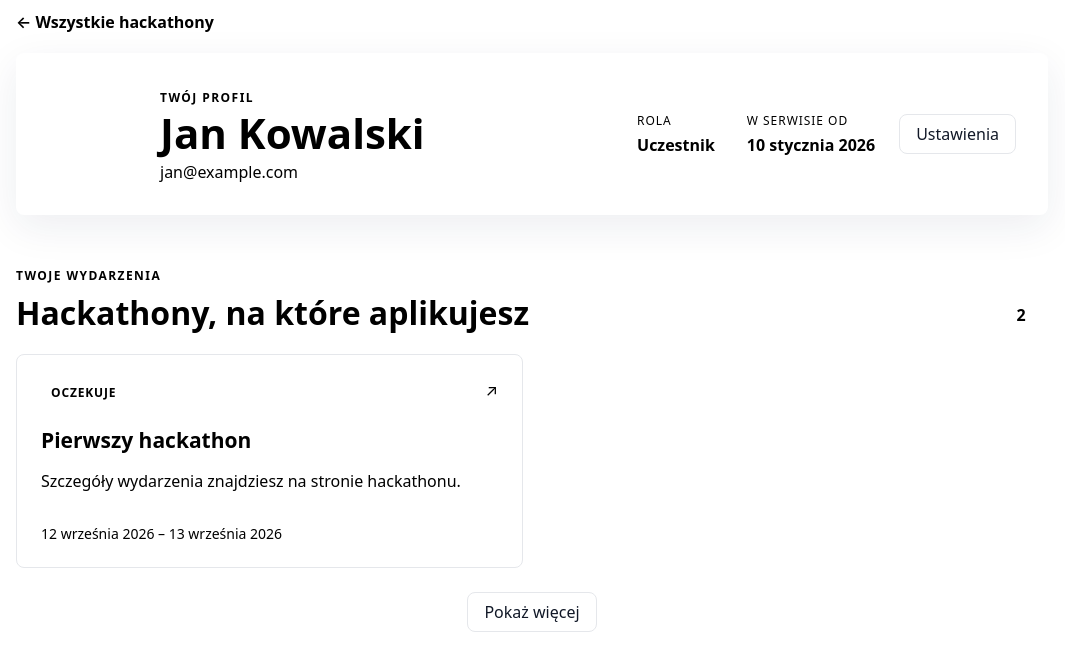
ProfilePage › loads the next page without replacing visible hackathons
The image size is (1065, 649).
Expected: the heading "Pierwszy hackathon" is shown, 41,426 -> 251,454
Click the button "Pokaż więcej".
click(532, 612)  # box 467,592 -> 596,632
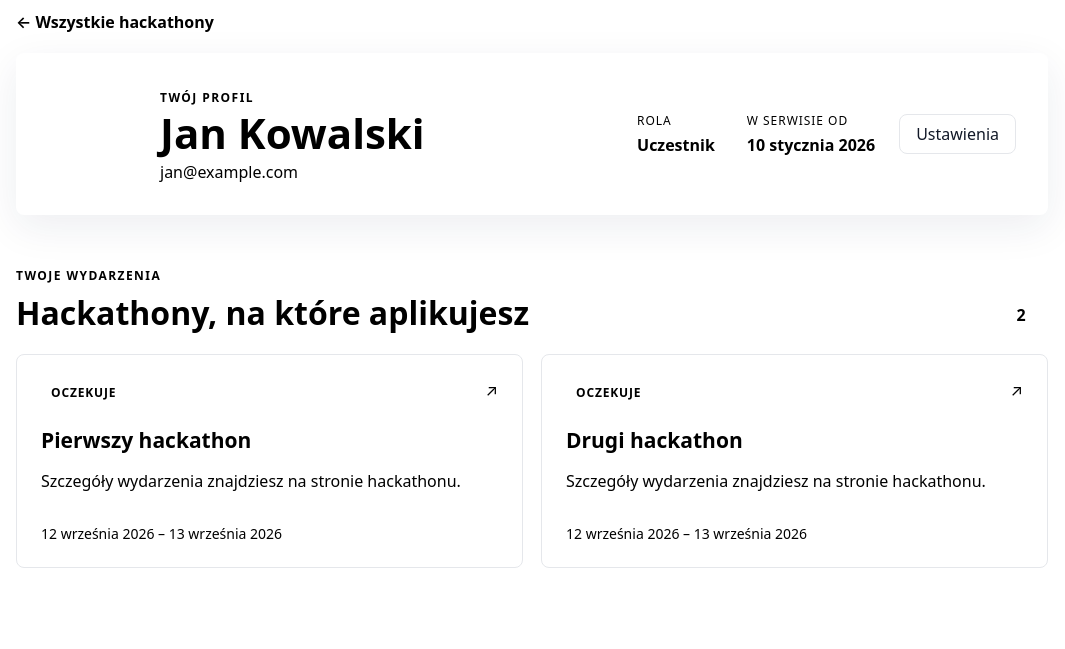
Expected: the heading "Pierwszy hackathon" is shown, 41,426 -> 251,454
Result: the heading "Drugi hackathon" is shown at 566,426 -> 743,454
Result: the button "Pokaż więcej" is gone
